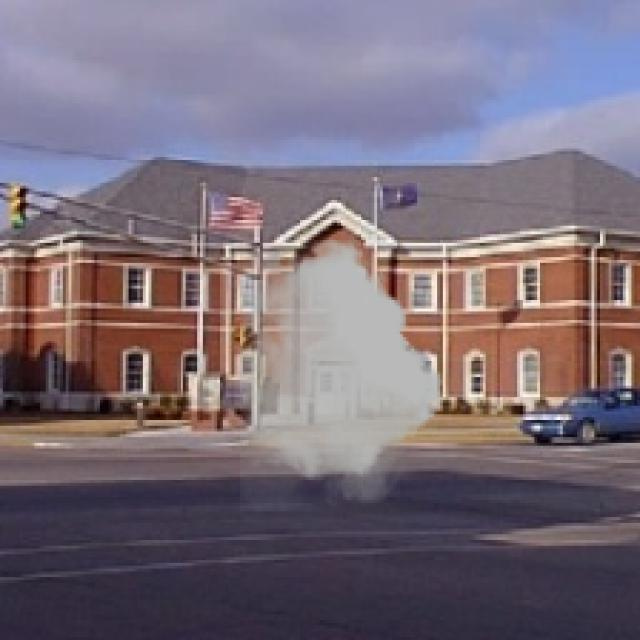Smoke: (240, 234, 443, 512)
